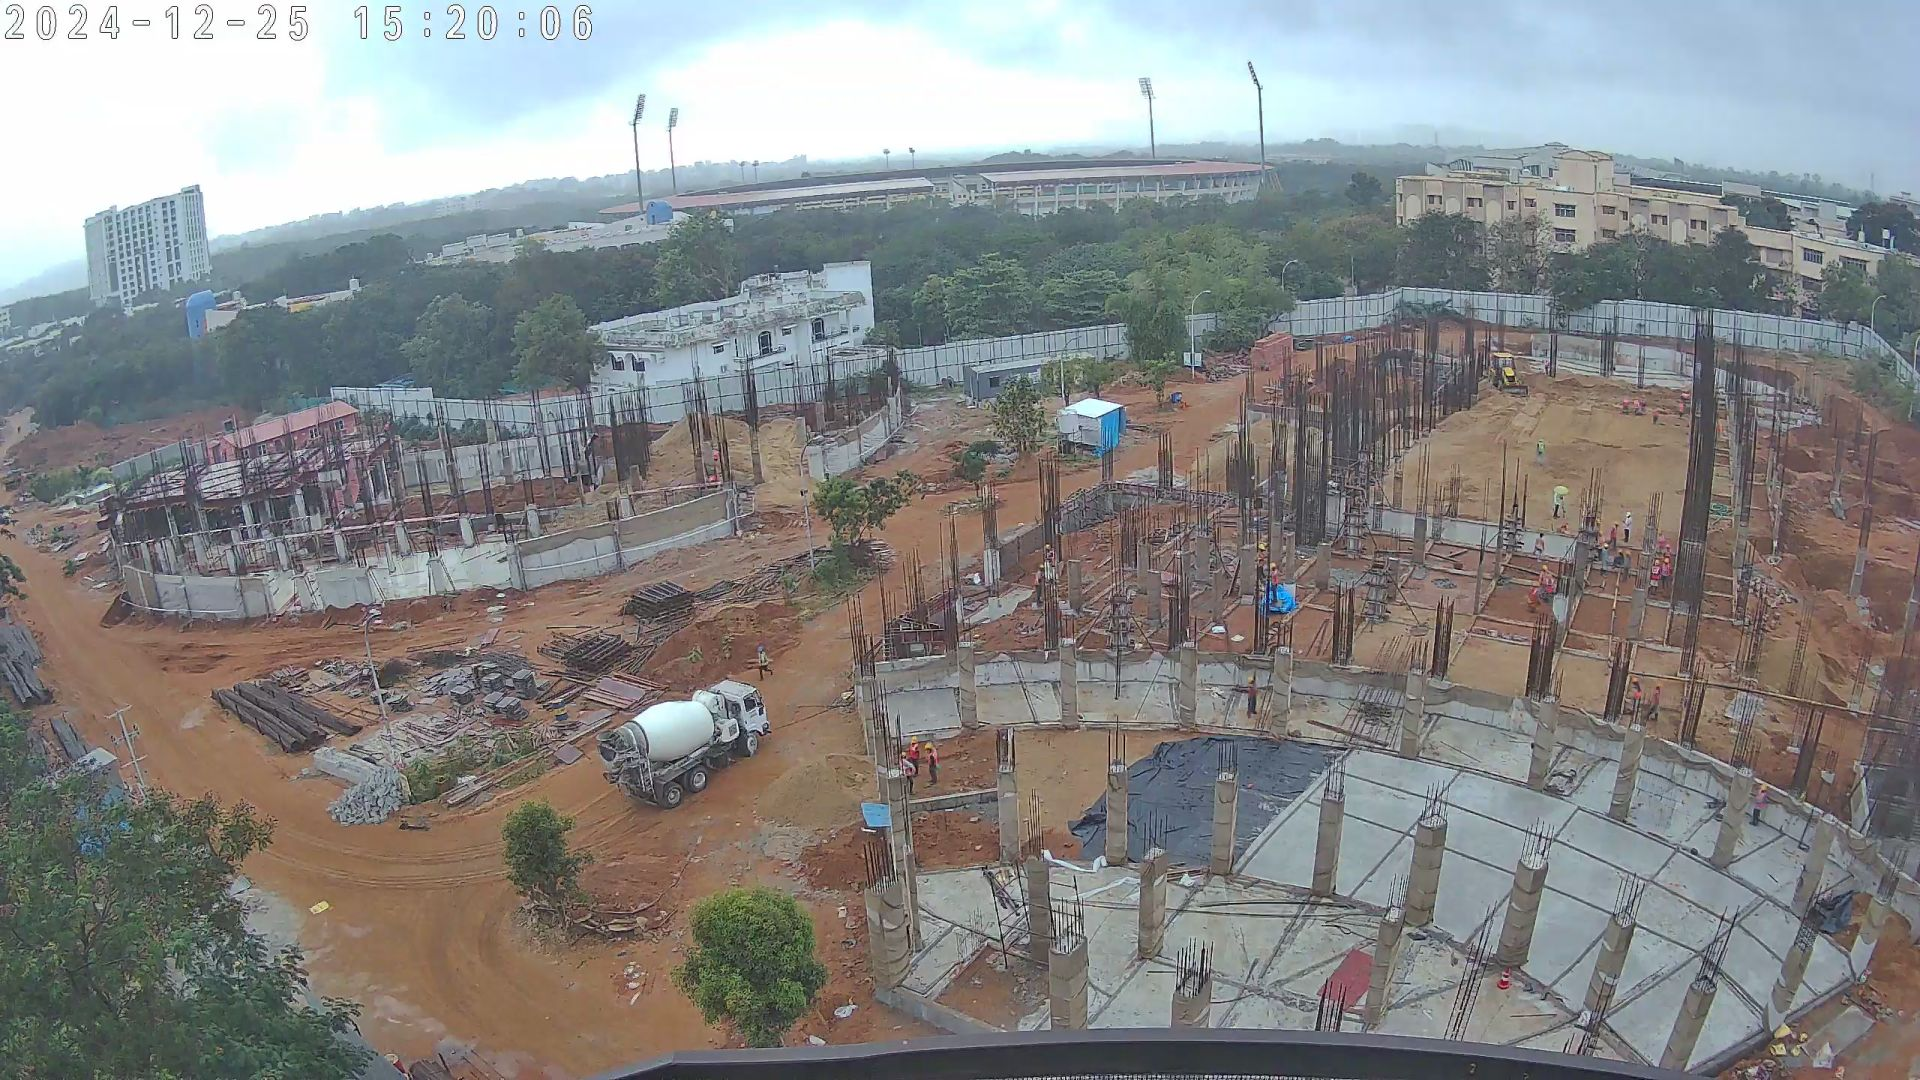bulldozer: (1481, 348, 1529, 404)
truck: (594, 681, 770, 808)
worker: (1550, 478, 1571, 523), (1041, 542, 1061, 583), (1607, 520, 1626, 561), (1244, 674, 1258, 727), (751, 640, 770, 678), (1539, 564, 1557, 604), (1631, 675, 1645, 726), (1750, 783, 1766, 827), (898, 751, 914, 794), (1650, 682, 1666, 723), (1267, 557, 1280, 606), (1033, 563, 1046, 609), (926, 744, 939, 784), (1526, 577, 1539, 614), (1663, 559, 1676, 595), (1533, 437, 1547, 470), (1532, 531, 1547, 560), (1678, 381, 1689, 420), (1650, 558, 1660, 594), (910, 736, 919, 774), (1624, 510, 1633, 545), (1619, 396, 1632, 418), (1650, 407, 1663, 427), (1658, 529, 1666, 557), (1665, 543, 1674, 563), (1641, 394, 1648, 414), (1632, 396, 1640, 412)
